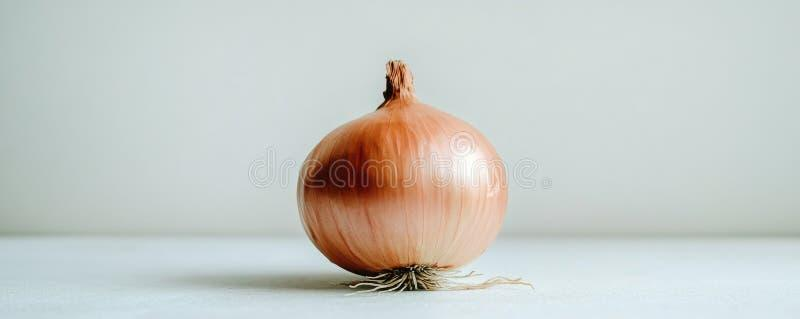Onion: (298, 61, 507, 274)
